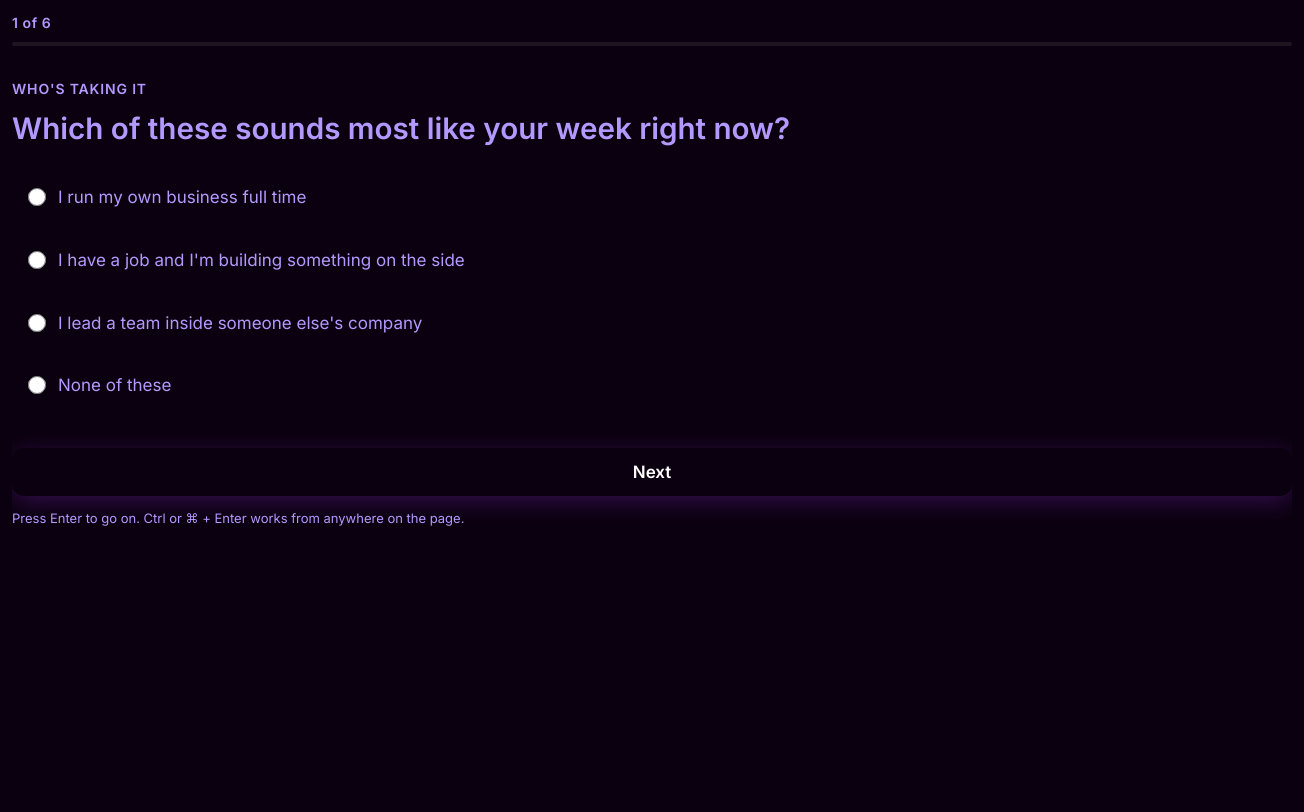
Test: ReadFlow › autosaves each answer and loads segment-dependent questions after Q1
The image size is (1304, 812).
Expected: the heading "Which of these sounds most like your week right now?" is shown, x1=12 y1=110 x2=790 y2=146
Click the radio button labelled "I run my own business full time".
click(37, 197)  # box x1=28 y1=188 x2=46 y2=206
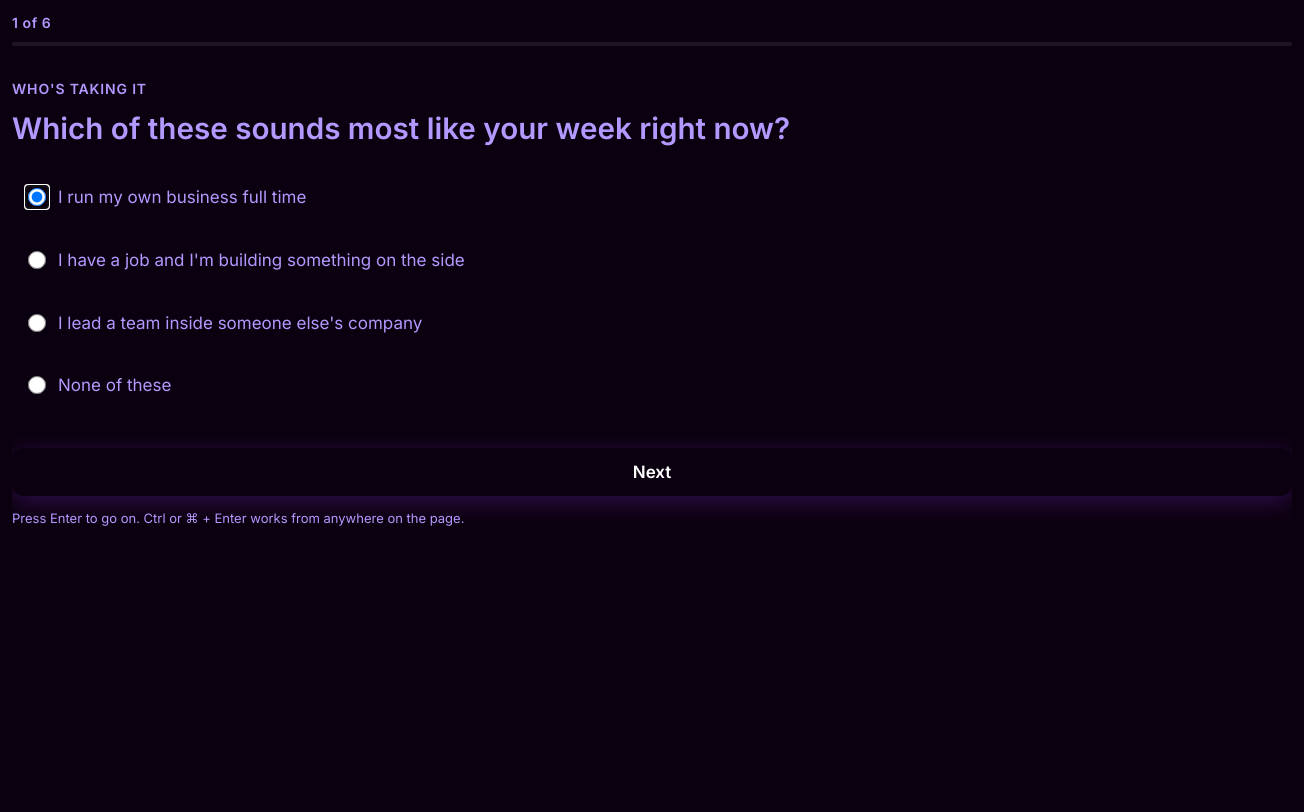
Click the button "Next".
click(652, 472)  # box x1=12 y1=448 x2=1292 y2=496
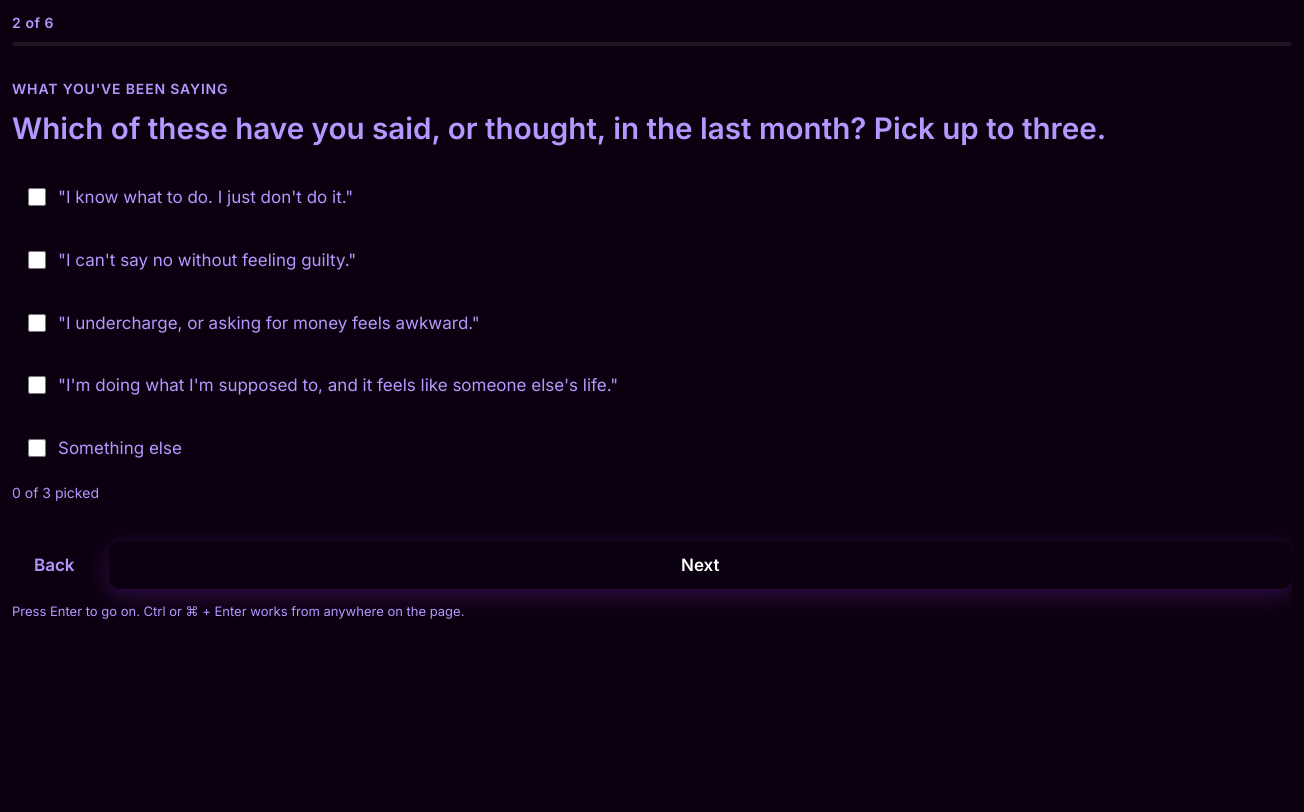
Result: the heading "Pick up to three" is shown at x1=12 y1=109 x2=1292 y2=147
Result: the checkbox labelled "\"I undercharge, or asking for money feels awkward.\"" is shown at x1=28 y1=314 x2=46 y2=332
Result: the text "2 of 6" is shown at x1=12 y1=14 x2=54 y2=31
